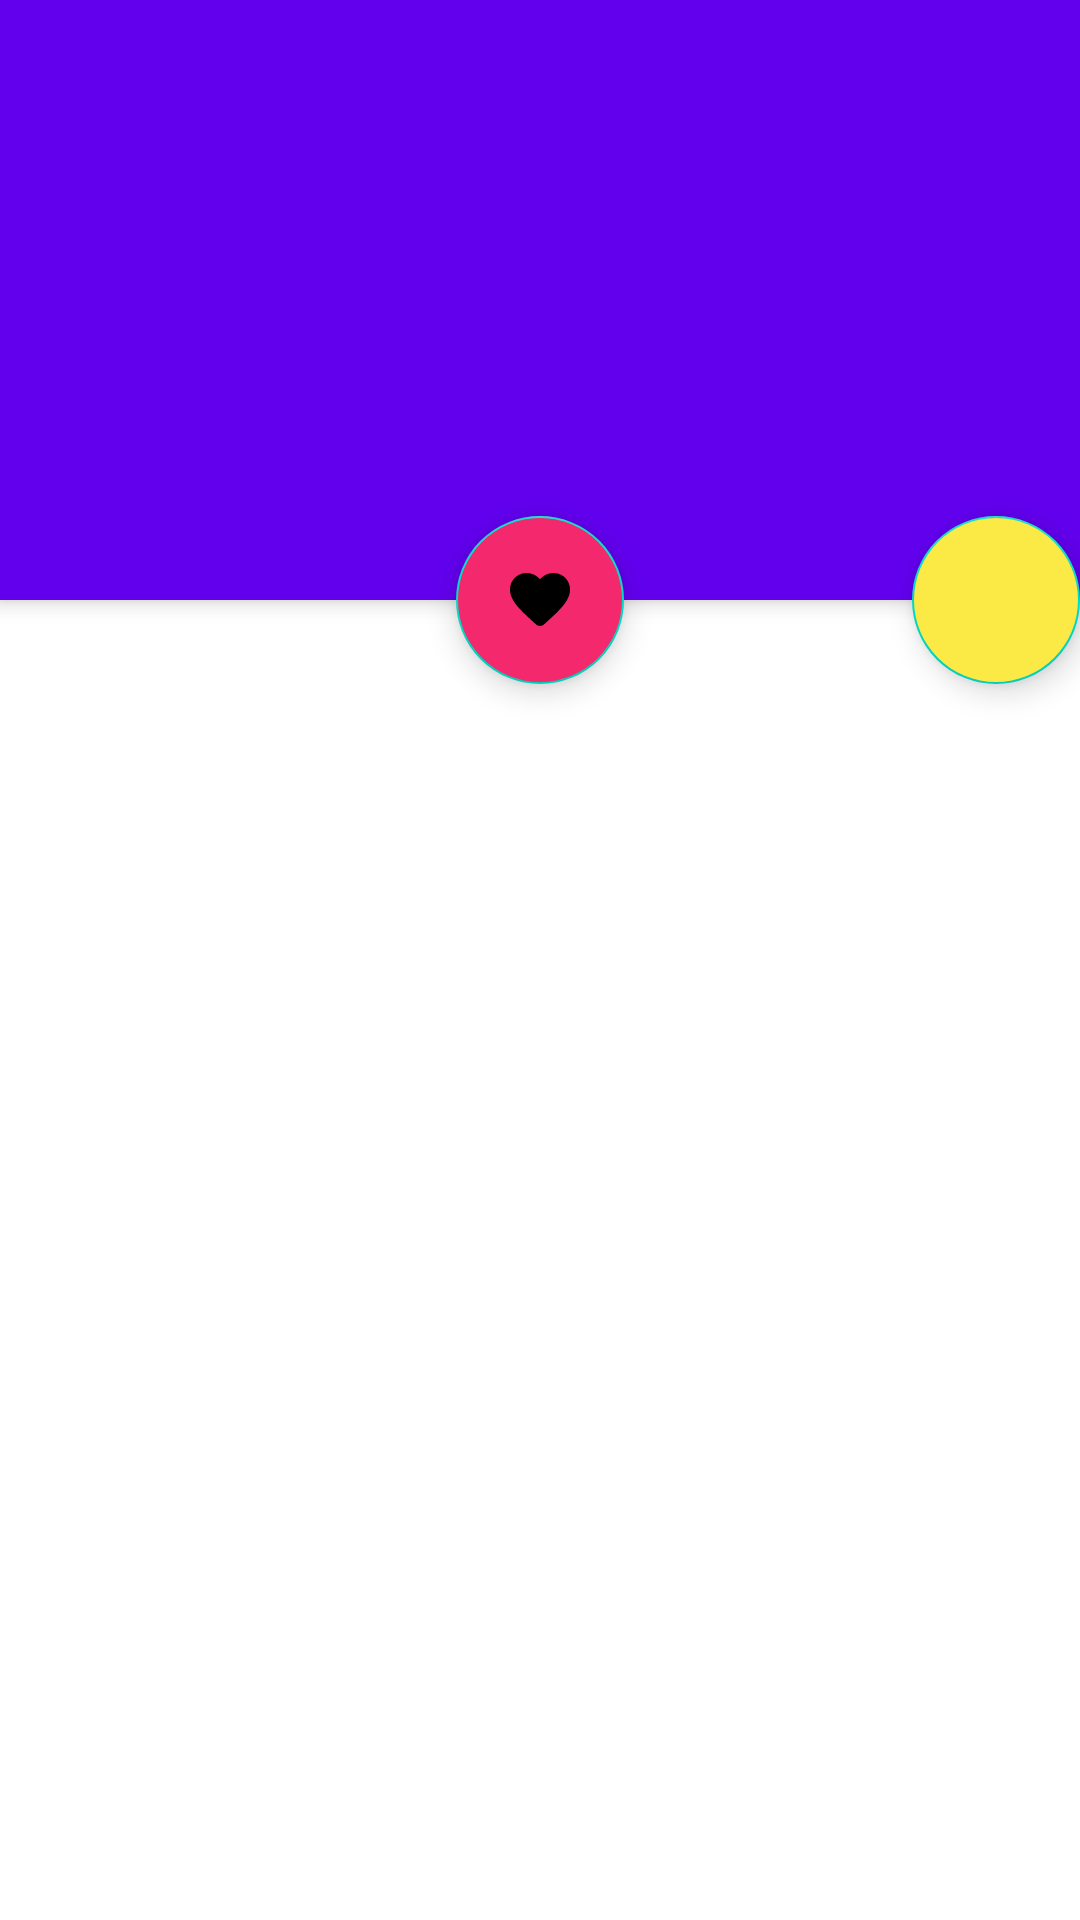

Where to tap for icons on this 1080×1920 app screen, as (x=x, y=y):
favorite: (x=540, y=600)
